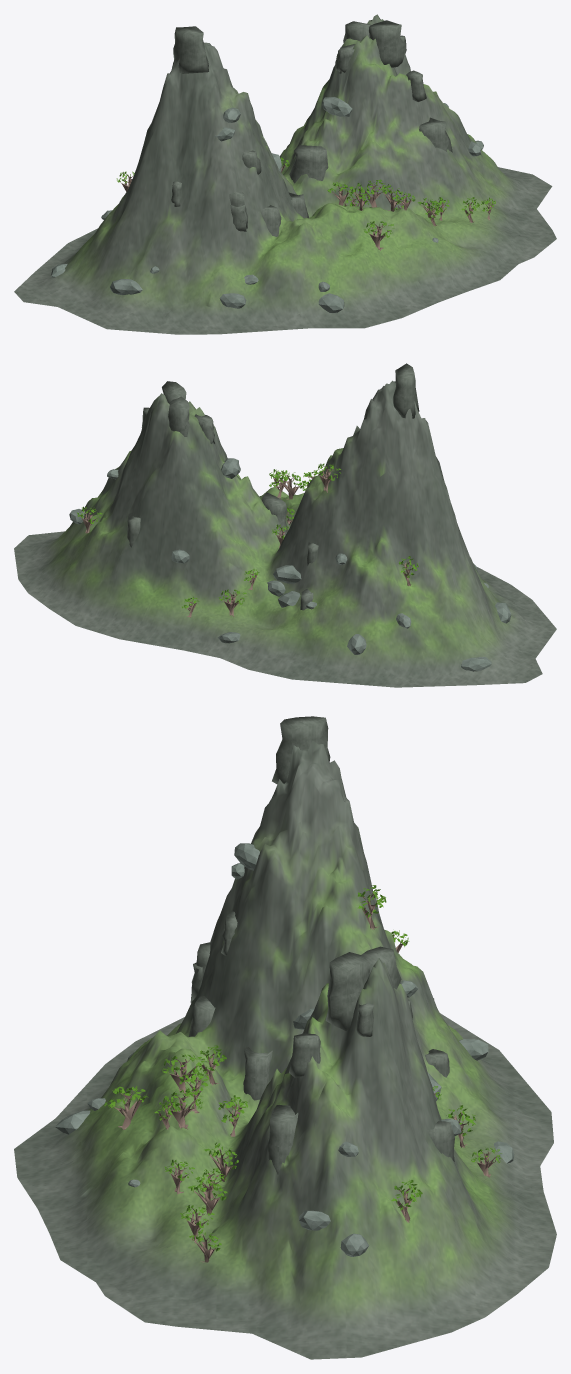
File: van-son.glb
The picture shows the model from 3 angles, top to bottom: view 1: azimuth 30°, elevation 25°; view 2: azimuth 150°, elevation 25°; view 3: azimuth 270°, elevation 25°; orthographic projection. The views are drawn at different scales.
Visible parts, largest first — view 1: Vân Sơn · weathered mountain, Vân Sơn fractured bedrock.009, Vân Sơn fractured bedrock.002, Vân Sơn fractured bedrock.011, Vân Sơn fractured bedrock.015, Vân Sơn talus.009, Vân Sơn fractured bedrock.006, Vân Sơn fractured bedrock.007, Vân Sơn talus, Vân Sơn fractured bedrock.012; view 2: Vân Sơn · weathered mountain, Vân Sơn fractured bedrock.009, Vân Sơn fractured bedrock.007, Vân Sơn fractured bedrock.011, Vân Sơn talus.011; view 3: Vân Sơn · weathered mountain, Vân Sơn fractured bedrock.002, Vân Sơn fractured bedrock.009, Vân Sơn fractured bedrock.015, Vân Sơn fractured bedrock.003, Vân Sơn fractured bedrock.012.
Boxes of the visible parts, x1=… form: Vân Sơn · weathered mountain: x1=14, y1=14, x2=556, y2=334; Vân Sơn fractured bedrock.009: x1=172, y1=26, x2=208, y2=73; Vân Sơn fractured bedrock.002: x1=369, y1=20, x2=404, y2=67; Vân Sơn fractured bedrock.011: x1=289, y1=145, x2=328, y2=183; Vân Sơn fractured bedrock.015: x1=419, y1=117, x2=452, y2=152; Vân Sơn talus.009: x1=322, y1=97, x2=352, y2=116; Vân Sơn fractured bedrock.006: x1=260, y1=205, x2=281, y2=236; Vân Sơn fractured bedrock.007: x1=343, y1=21, x2=371, y2=42; Vân Sơn talus: x1=110, y1=279, x2=142, y2=295; Vân Sơn fractured bedrock.012: x1=406, y1=70, x2=426, y2=101; Vân Sơn · weathered mountain: x1=14, y1=380, x2=556, y2=687; Vân Sơn fractured bedrock.009: x1=393, y1=363, x2=419, y2=418; Vân Sơn fractured bedrock.007: x1=168, y1=396, x2=189, y2=436; Vân Sơn fractured bedrock.011: x1=262, y1=492, x2=288, y2=535; Vân Sơn talus.011: x1=273, y1=565, x2=301, y2=583; Vân Sơn · weathered mountain: x1=14, y1=740, x2=556, y2=1359; Vân Sơn fractured bedrock.002: x1=325, y1=952, x2=369, y2=1030; Vân Sơn fractured bedrock.009: x1=272, y1=716, x2=330, y2=784; Vân Sơn fractured bedrock.015: x1=268, y1=1105, x2=298, y2=1174; Vân Sơn fractured bedrock.003: x1=243, y1=1047, x2=272, y2=1100; Vân Sơn fractured bedrock.012: x1=289, y1=1033, x2=320, y2=1077.
Size of the model in its own units: 187 by 86.68 by 113.
4 materials, 4 textured.
